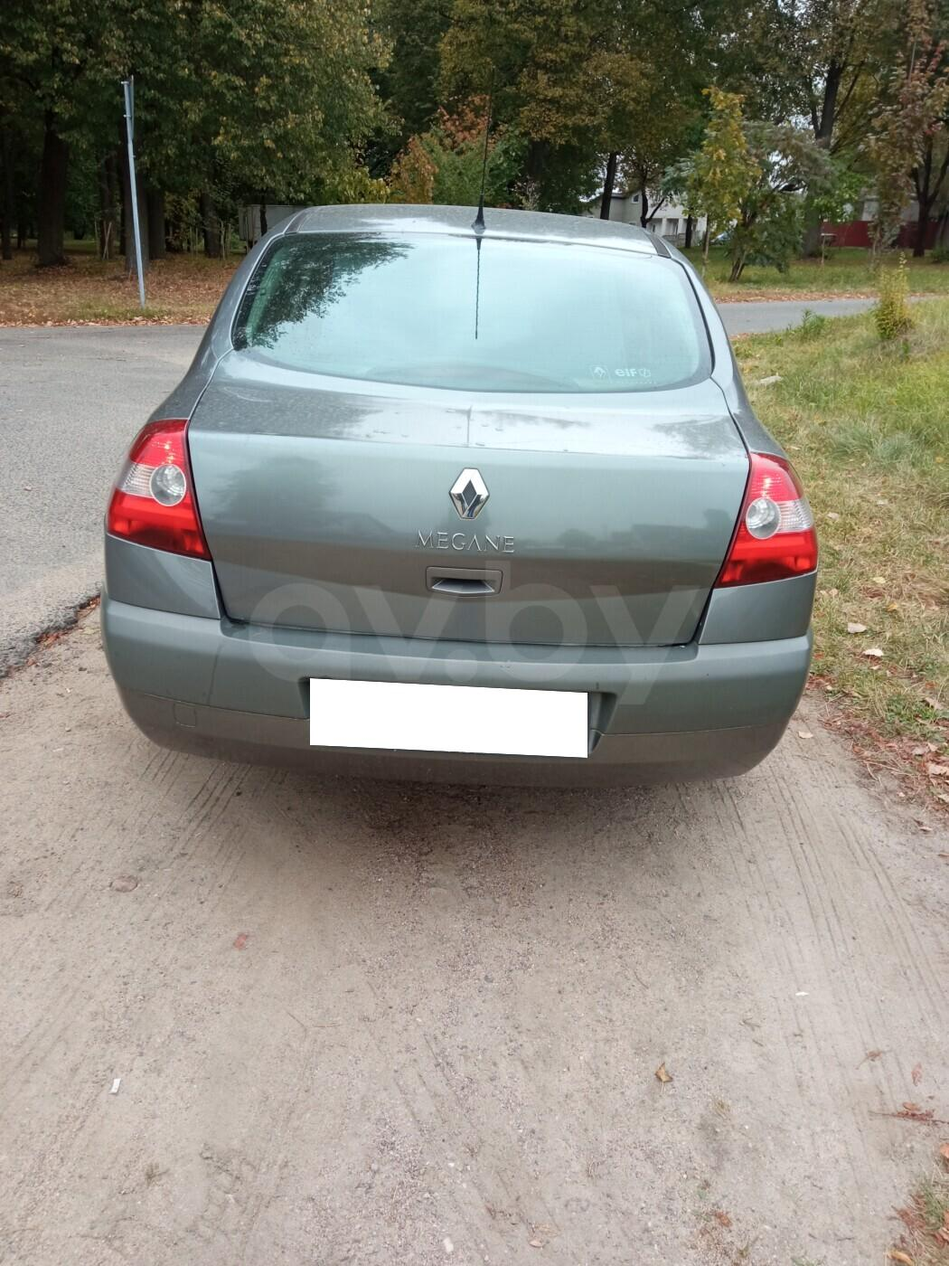Megane_2002-2006: (94, 201, 835, 816)
